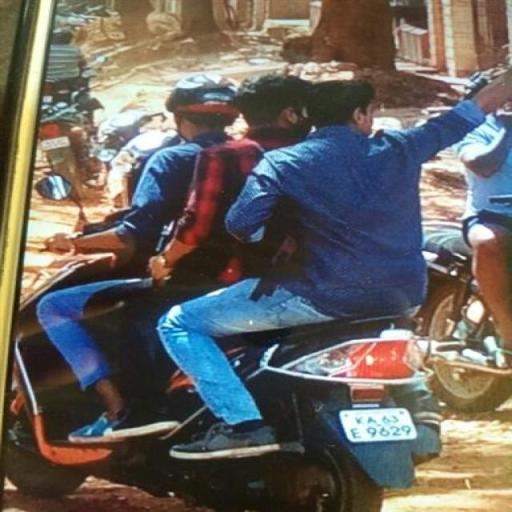tripple riding: (36, 69, 484, 312)
